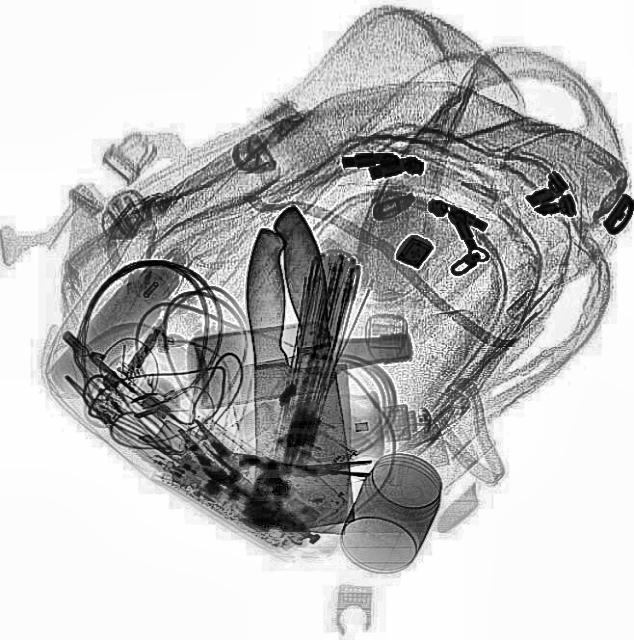Knife: (212, 200, 356, 532), (244, 228, 354, 532)
